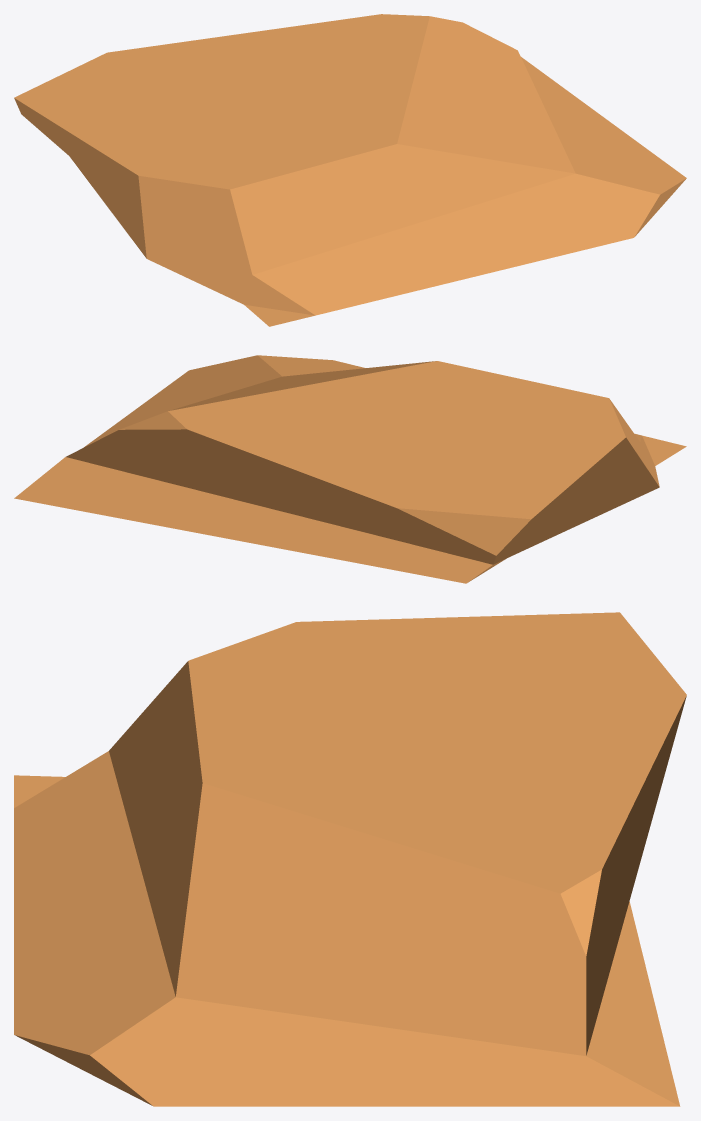
Rendered from BigFlatRock.fbx.
The picture shows the model from 3 angles, top to bottom: view 1: azimuth 30°, elevation 25°; view 2: azimuth 150°, elevation 25°; view 3: azimuth 270°, elevation 25°; orthographic projection. The views are drawn at different scales.
Visible parts, largest first — view 1: Cube; view 2: Cube; view 3: Cube.
Part boxes in pixels (x1,y1,x2,y2): Cube: [14, 14, 686, 326]; Cube: [14, 355, 686, 583]; Cube: [14, 612, 686, 1106].
Size of the model in its own units: 4408 by 727 by 3434.
